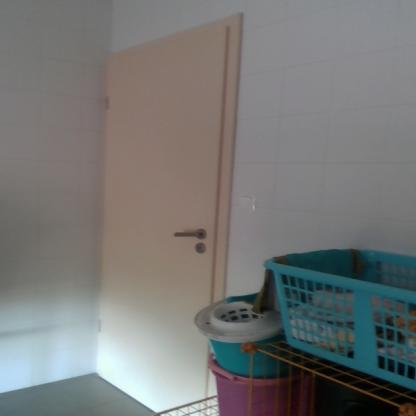door: (103, 56, 212, 416)
hinged: (102, 93, 112, 110), (96, 317, 104, 333)
lever: (171, 228, 204, 239)
